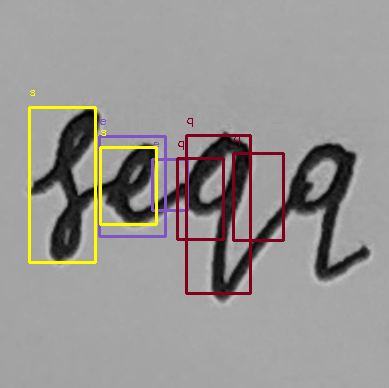e: (105, 135, 167, 233)
q: (177, 124, 263, 304), (284, 138, 375, 284)
s: (22, 105, 104, 265)
